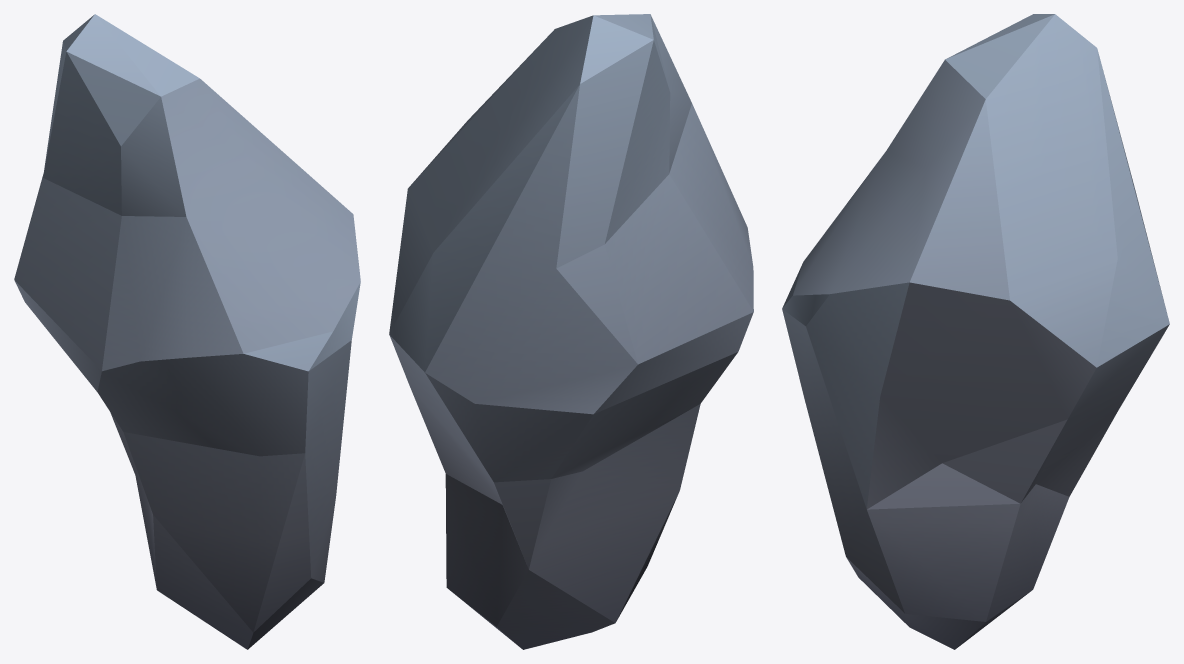
The model's file is SM_Rock_01.fbx.
3 renders of one model, left to right at view 1: azimuth 30°, elevation 25°; view 2: azimuth 150°, elevation 25°; view 3: azimuth 270°, elevation 25°, orthographic. The views are drawn at different scales.
Visible parts, largest first — view 1: Rock; view 2: Rock; view 3: Rock.
Boxes of the visible parts, box(x1,y1,x2,y2) form: Rock: box(14, 14, 360, 649); Rock: box(389, 14, 753, 649); Rock: box(782, 14, 1169, 649).
Size of the model in its own units: 146 by 341 by 206.
